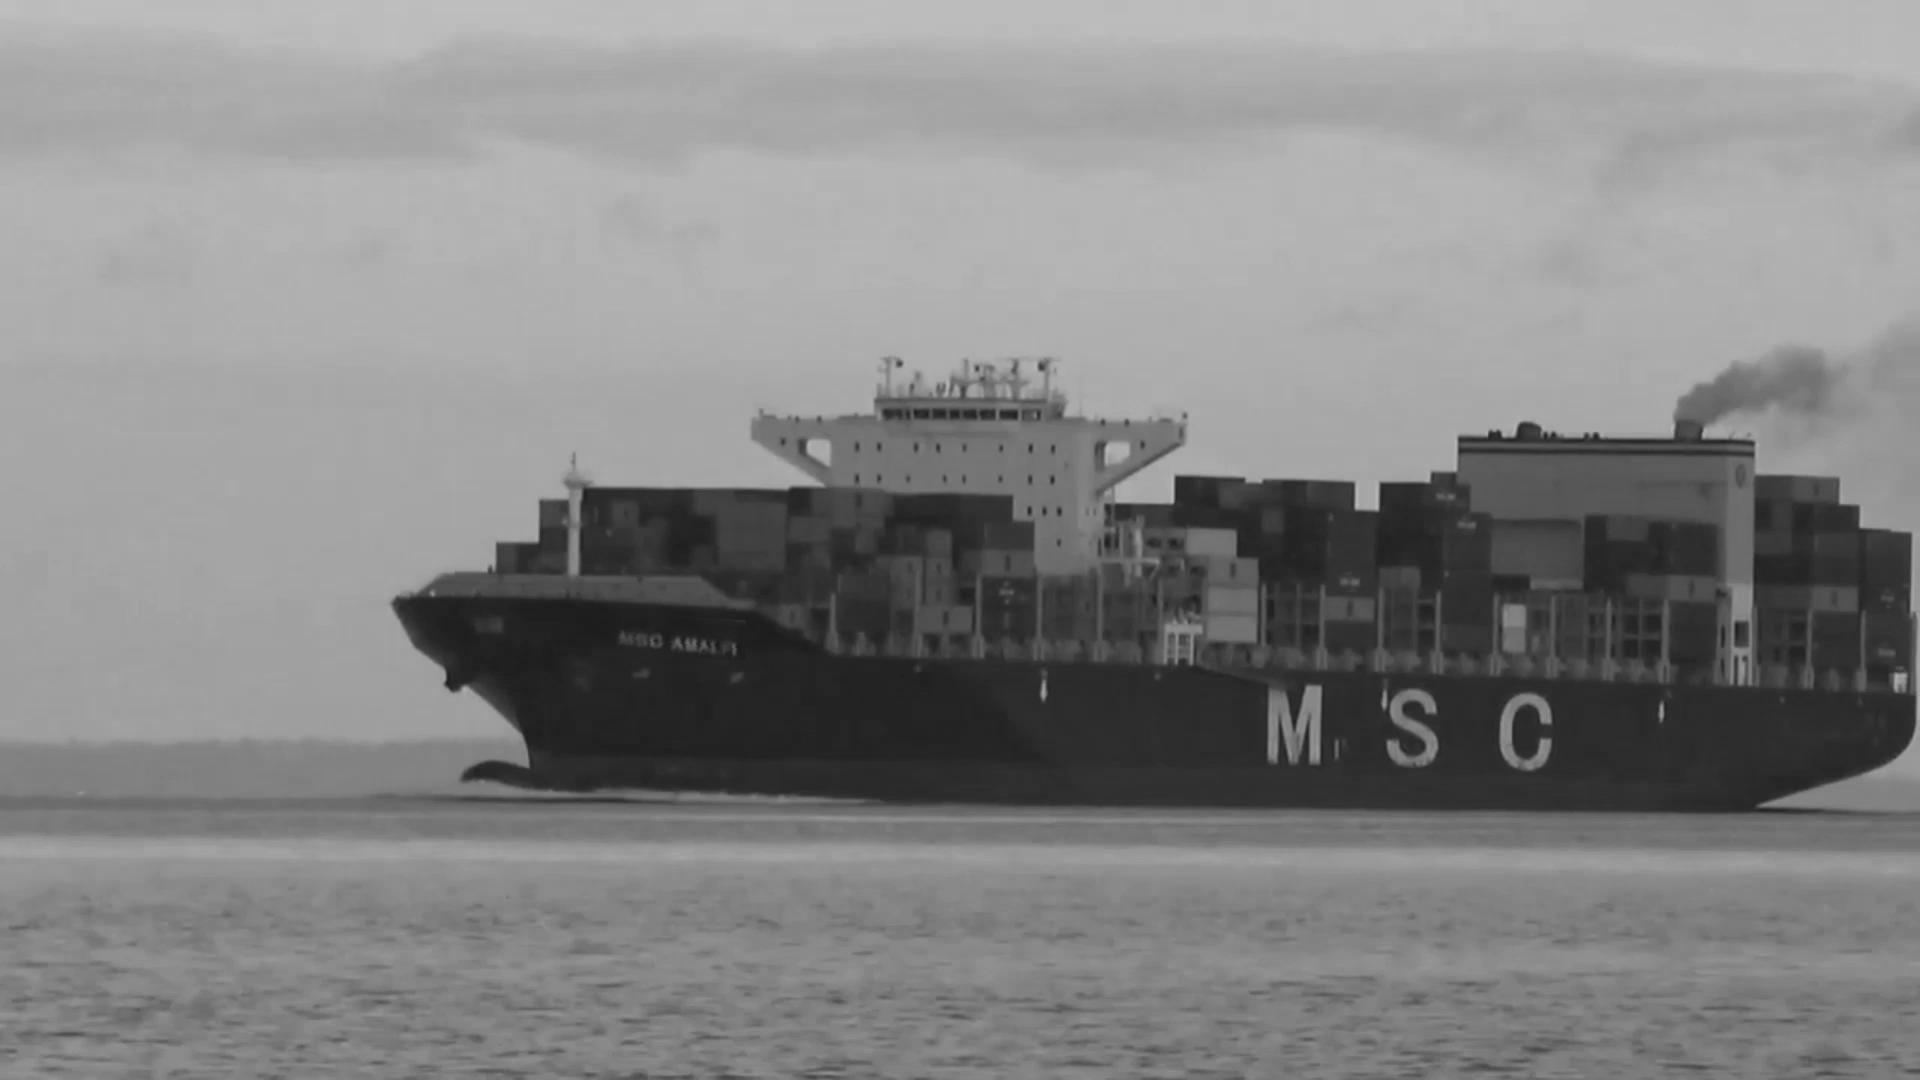OCR: (603, 609, 746, 661)
